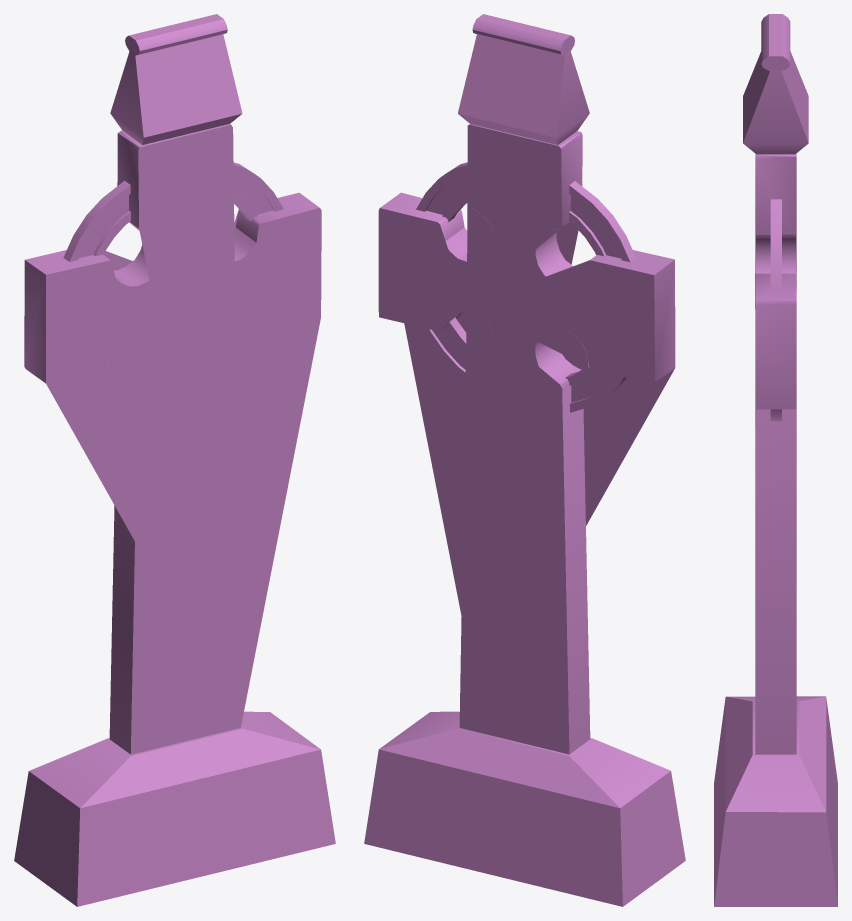
The model's file is grave_cross_1.fbx.
The picture shows the model from 3 angles, left to right: view 1: azimuth 30°, elevation 25°; view 2: azimuth 150°, elevation 25°; view 3: azimuth 270°, elevation 25°; orthographic projection.
Visible parts, largest first — view 1: grave_cross_1; view 2: grave_cross_1; view 3: grave_cross_1.
Part boxes in pixels (x1,y1,x2,y2): grave_cross_1: (14,14,335,906); grave_cross_1: (364,14,685,906); grave_cross_1: (714,14,837,906).
Size of the model in its own units: 0.5137 by 1.46 by 0.2027.
